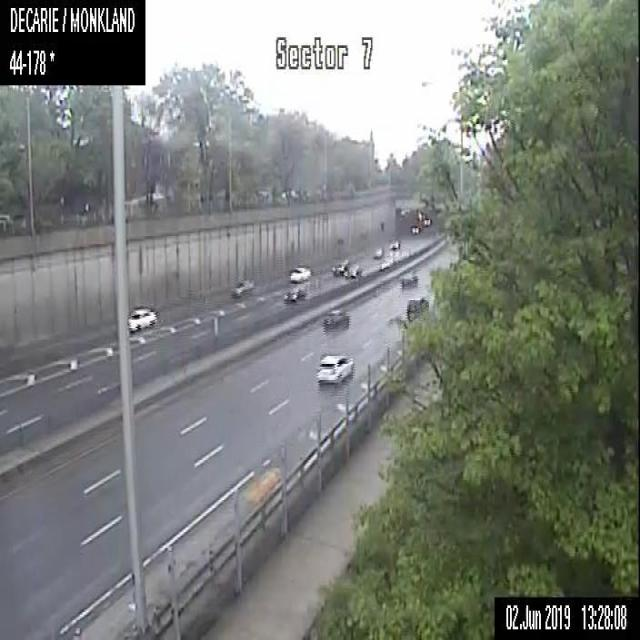vehicle: (314, 350, 354, 382), (129, 304, 158, 332), (320, 305, 350, 331), (229, 276, 255, 297), (406, 296, 427, 319), (282, 284, 305, 302), (290, 263, 310, 281), (401, 269, 419, 287), (333, 258, 349, 273), (345, 263, 362, 277), (370, 245, 383, 259), (389, 236, 402, 249), (410, 224, 420, 235)
